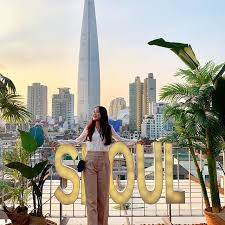people: (81, 107, 112, 225)
